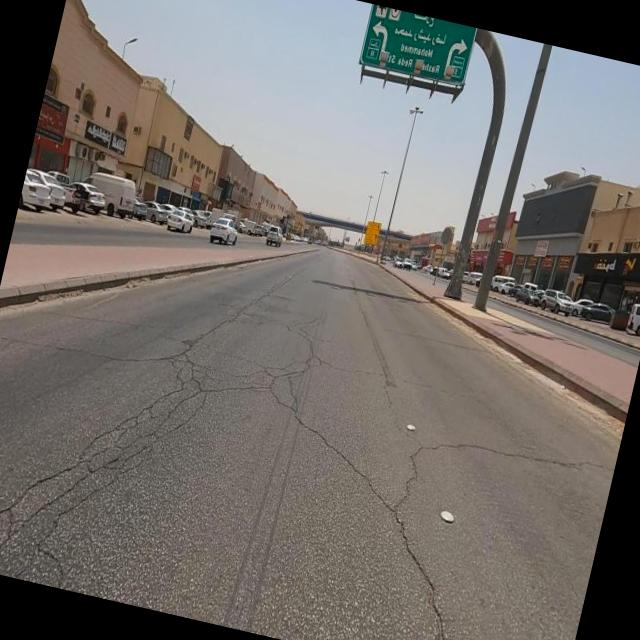debris: (117, 112, 207, 212), (220, 168, 269, 235), (212, 160, 256, 226)
